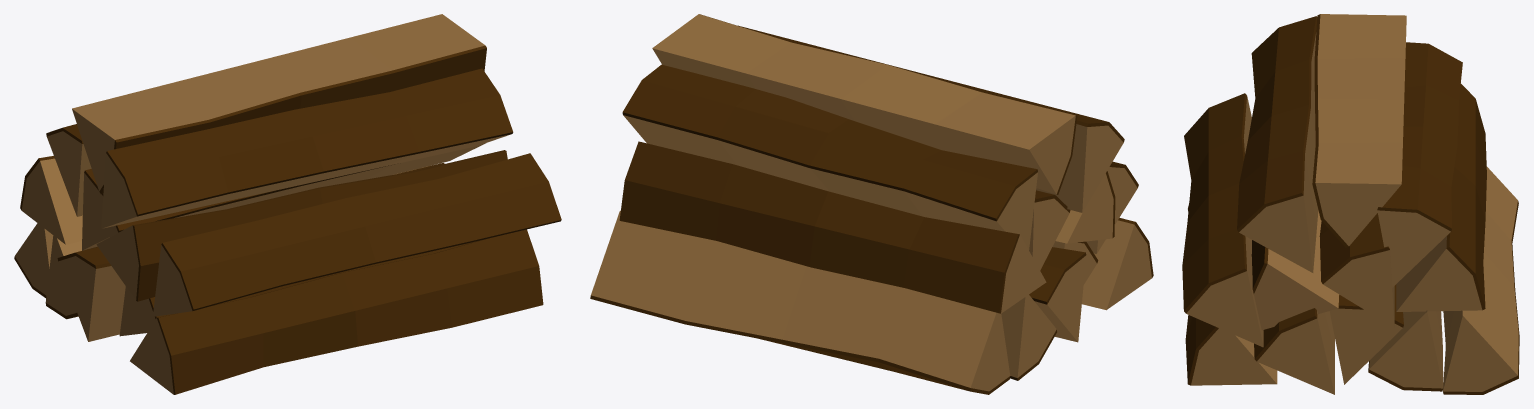
The model's file is woodStack.fbx.
The picture shows the model from 3 angles, left to right: view 1: azimuth 30°, elevation 25°; view 2: azimuth 150°, elevation 25°; view 3: azimuth 270°, elevation 25°; orthographic projection. The views are drawn at different scales.
Parts seen in each view (by area): view 1: Cube.006, Cube.009, Cube.008, Cube.011, Cube.007, Cube.004, Cube.003, Cube.002, Cube.010, Cube.005, Cube.001, Cube; view 2: Cube.001, Cube.002, Cube.010, Cube.011, Cube.009, Cube.006, Cube.003, Cube, Cube.007, Cube.004, Cube.008, Cube.005; view 3: Cube.011, Cube.009, Cube.008, Cube.010, Cube.001, Cube.002, Cube.004, Cube.007, Cube.005, Cube, Cube.006, Cube.003.
Boxes of the visible parts, box(x1,y1,x2,y2) form: Cube.006: box(130, 229, 543, 394); Cube.009: box(101, 68, 513, 228); Cube.008: box(152, 153, 561, 316); Cube.011: box(72, 14, 486, 193); Cube.007: box(96, 150, 507, 301); Cube.004: box(82, 143, 485, 250); Cube.003: box(57, 163, 444, 341); Cube.002: box(20, 156, 82, 244); Cube.010: box(46, 124, 91, 216); Cube.005: box(119, 240, 480, 336); Cube.001: box(14, 223, 53, 298); Cube: box(45, 166, 427, 319); Cube.001: box(590, 210, 1010, 394); Cube.002: box(619, 141, 1046, 313); Cube.010: box(622, 64, 1037, 249); Cube.011: box(652, 14, 1077, 194); Cube.009: box(738, 25, 1124, 212); Cube.006: box(1082, 217, 1153, 310); Cube.003: box(1029, 247, 1086, 342); Cube: box(1001, 294, 1056, 380); Cube.007: box(1055, 171, 1115, 243); Cube.004: box(1029, 190, 1070, 270); Cube.008: box(1086, 161, 1138, 253); Cube.005: box(1052, 241, 1098, 284); Cube.011: box(1312, 14, 1406, 247); Cube.009: box(1237, 16, 1318, 272); Cube.008: box(1182, 93, 1263, 347); Cube.010: box(1377, 42, 1462, 287); Cube.001: box(1443, 166, 1519, 394); Cube.002: box(1396, 83, 1486, 311); Cube.004: box(1319, 213, 1394, 327); Cube.007: box(1251, 210, 1339, 330); Cube.005: box(1254, 308, 1334, 394); Cube: box(1368, 310, 1443, 391); Cube.006: box(1185, 203, 1277, 385); Cube.003: box(1329, 284, 1403, 384).
Size of the model in its own units: 1153 by 611 by 874.
